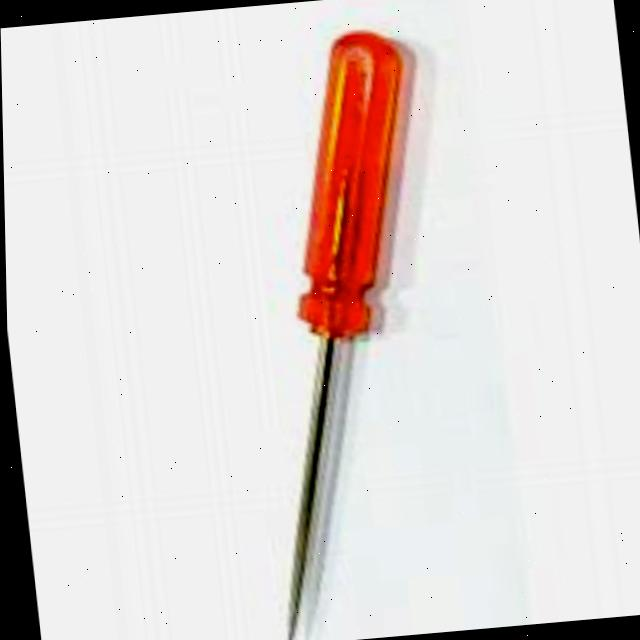ice pick: (217, 31, 472, 640)
